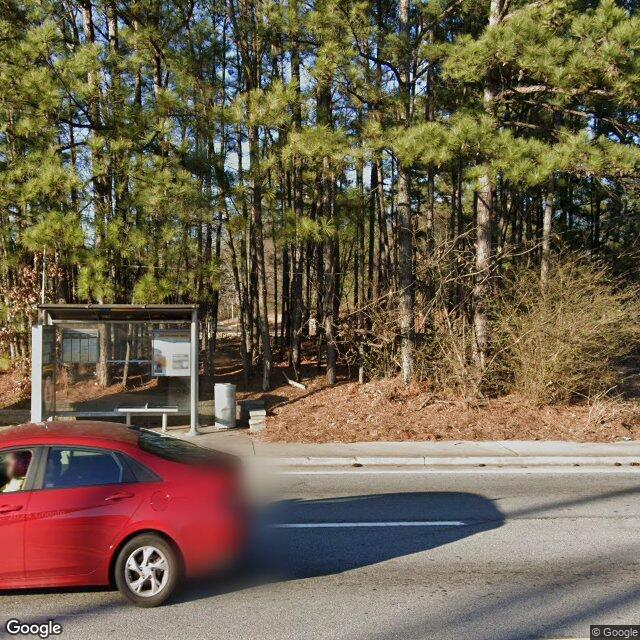seating: (113, 404, 179, 432)
shelter: (33, 304, 201, 437)
trash_can: (214, 382, 236, 430)
